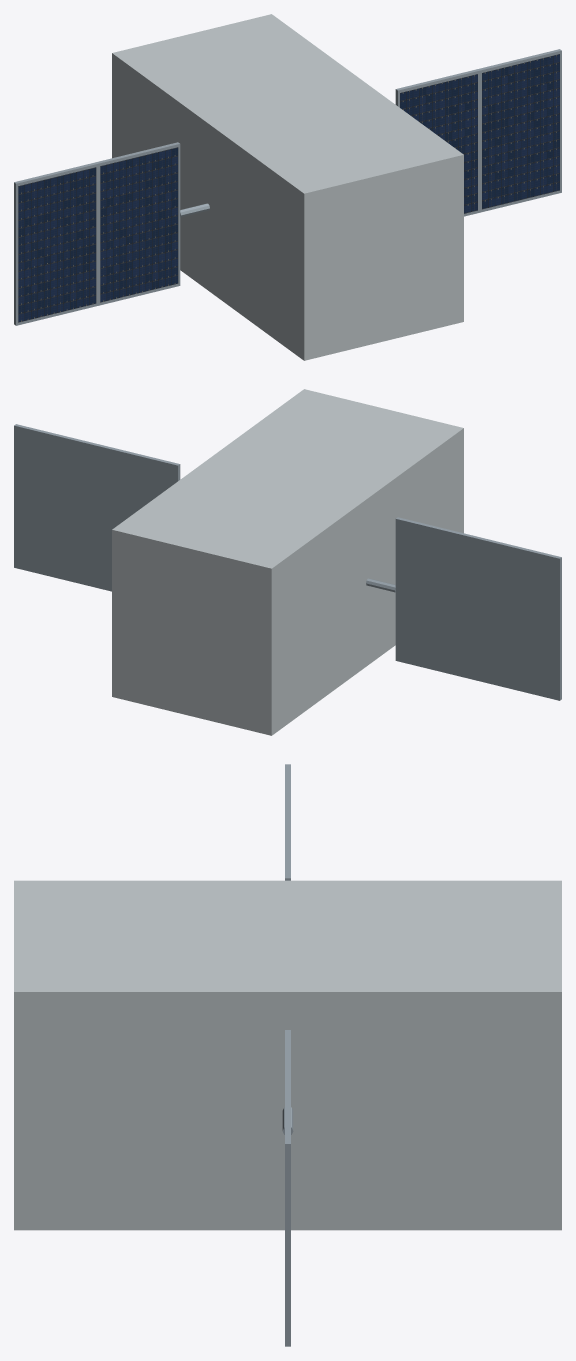
File: ref-bcp-300-26102.glb
The picture shows the model from 3 angles, top to bottom: view 1: azimuth 30°, elevation 25°; view 2: azimuth 150°, elevation 25°; view 3: azimuth 270°, elevation 25°; orthographic projection. The views are drawn at different scales.
Parts seen in each view (by area): view 1: Spacecraft body, Photovoltaic laminates (×4), Array frame (×4); view 2: Spacecraft body, Array frame (×4); view 3: Spacecraft body, Array frame.
Boxes of the visible parts, bbox=[...] form: Spacecraft body: bbox=[112, 14, 463, 360]; Photovoltaic laminates (×4): bbox=[18, 54, 559, 322]; Array frame (×4): bbox=[14, 49, 561, 325]; Spacecraft body: bbox=[112, 389, 463, 735]; Array frame (×4): bbox=[14, 424, 561, 700]; Spacecraft body: bbox=[14, 880, 561, 1230]; Array frame: bbox=[285, 1087, 290, 1346].
Size of the model in its own units: 4.1 by 1.2 by 2.5.
3 materials, 1 textured.
